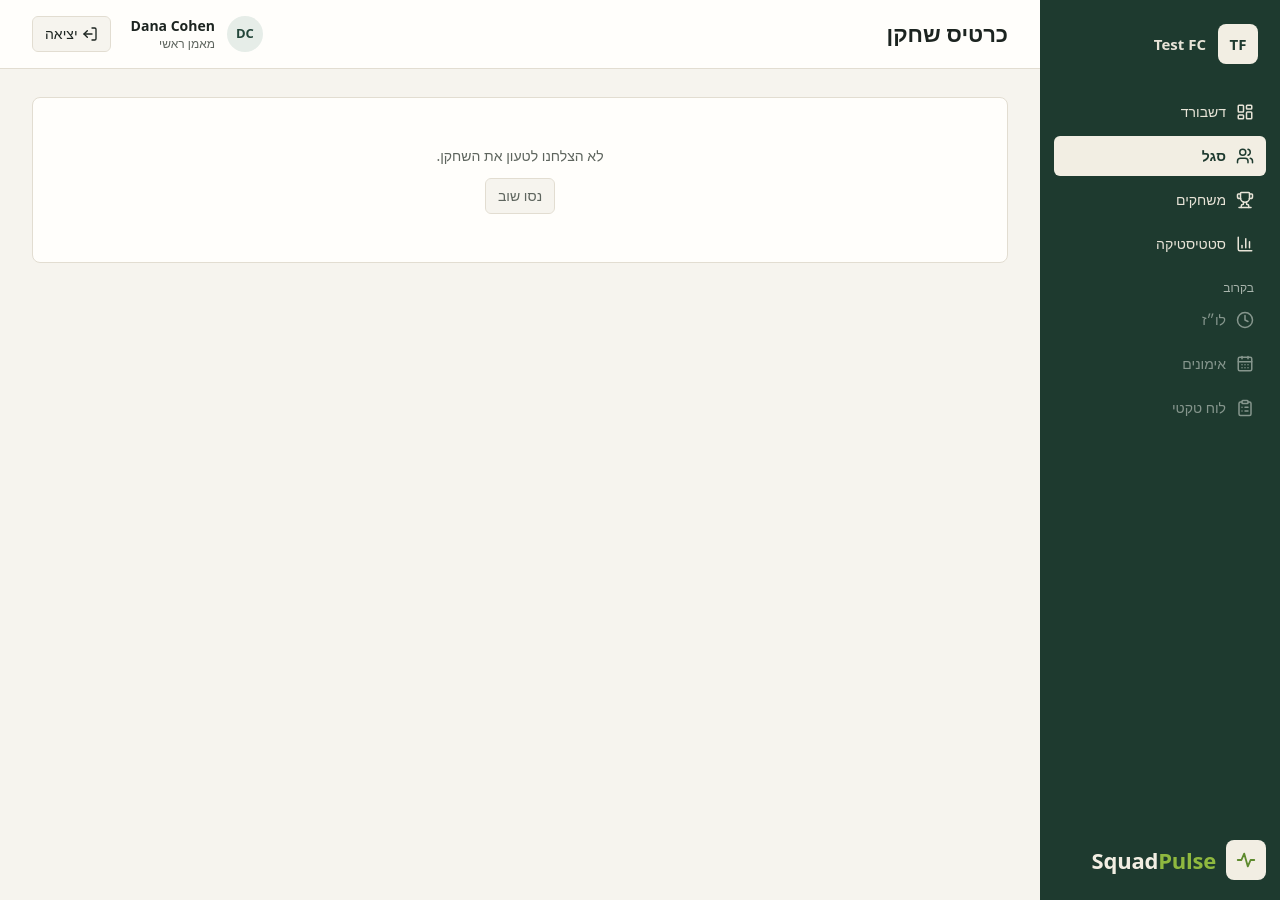
it: the player card's states › offers a retry after another error, which loads the player
Check: the text "לא הצלחנו לטעון את השחקן." is shown, box [436,146,604,166]
Step 1. Click the button "נסו שוב" → click(520, 196), box [485,178,555,214]
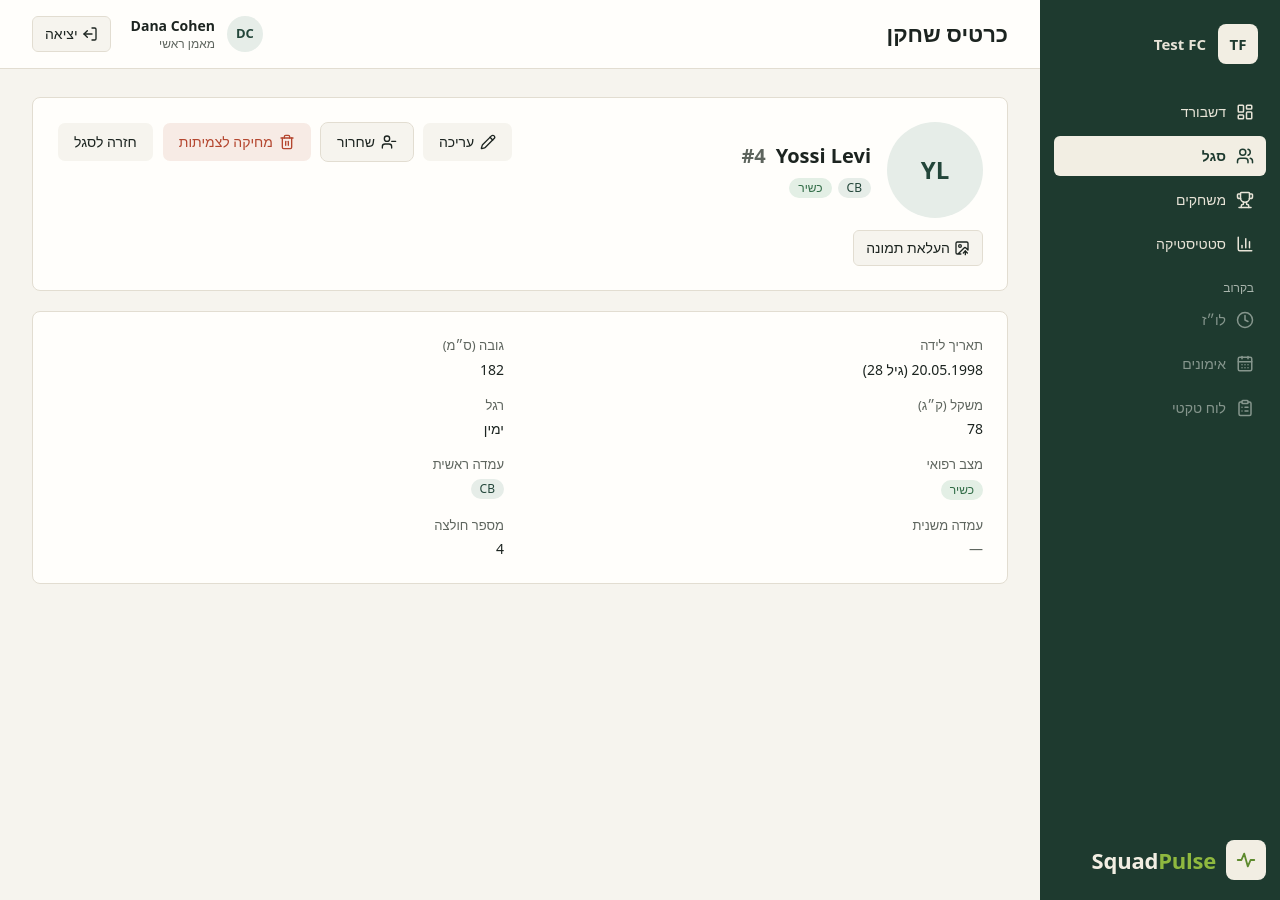
Check: the heading "Yossi Levi" is shown, box [776,142,871,170]
